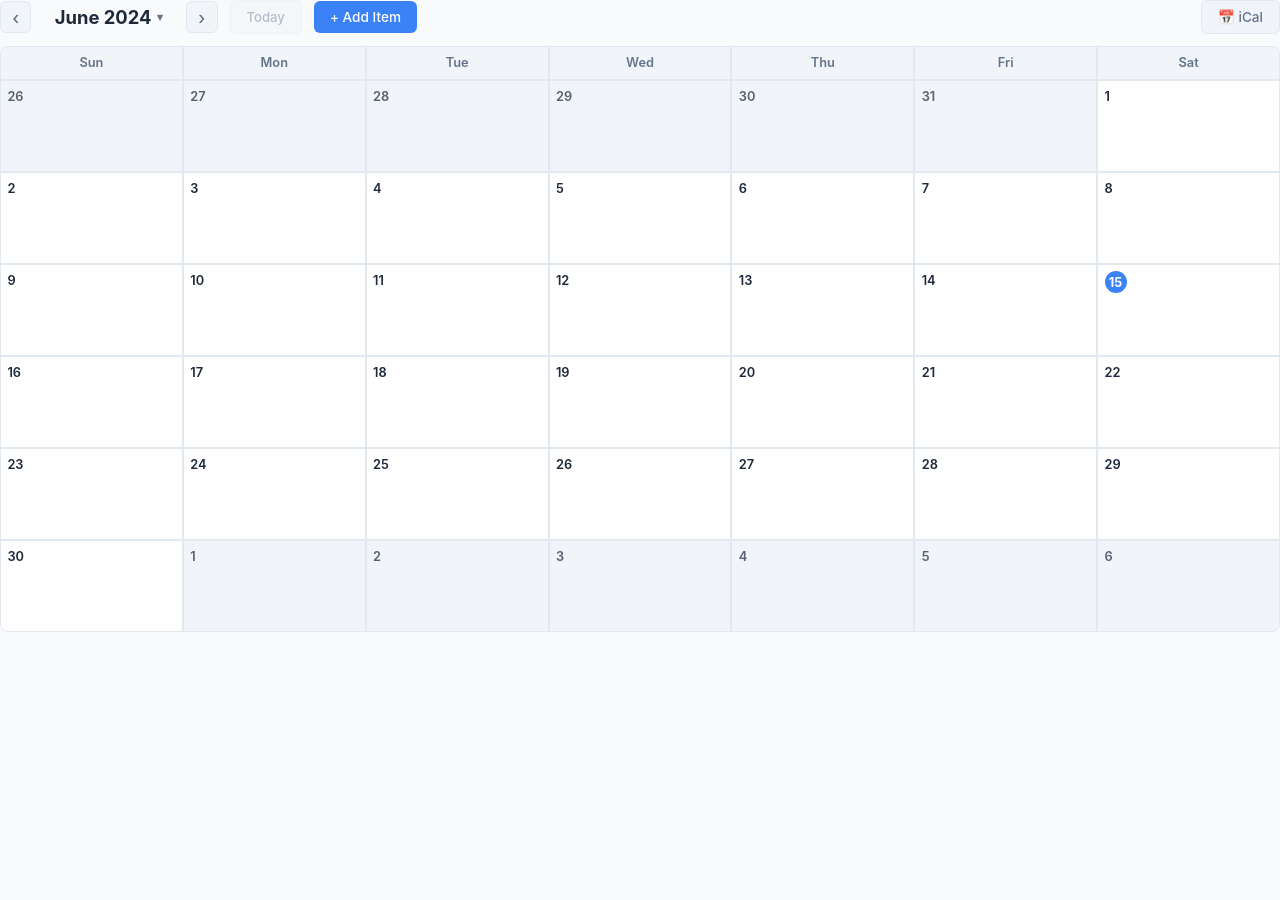
Scenario: CalendarView › opens iCal dialog when iCal button is clicked
What coordinates should you click on to do the following:
click the button with class "ical-btn"
I would click on:
 (1240, 17)
Its box is left=1201, top=0, right=1279, bottom=34.
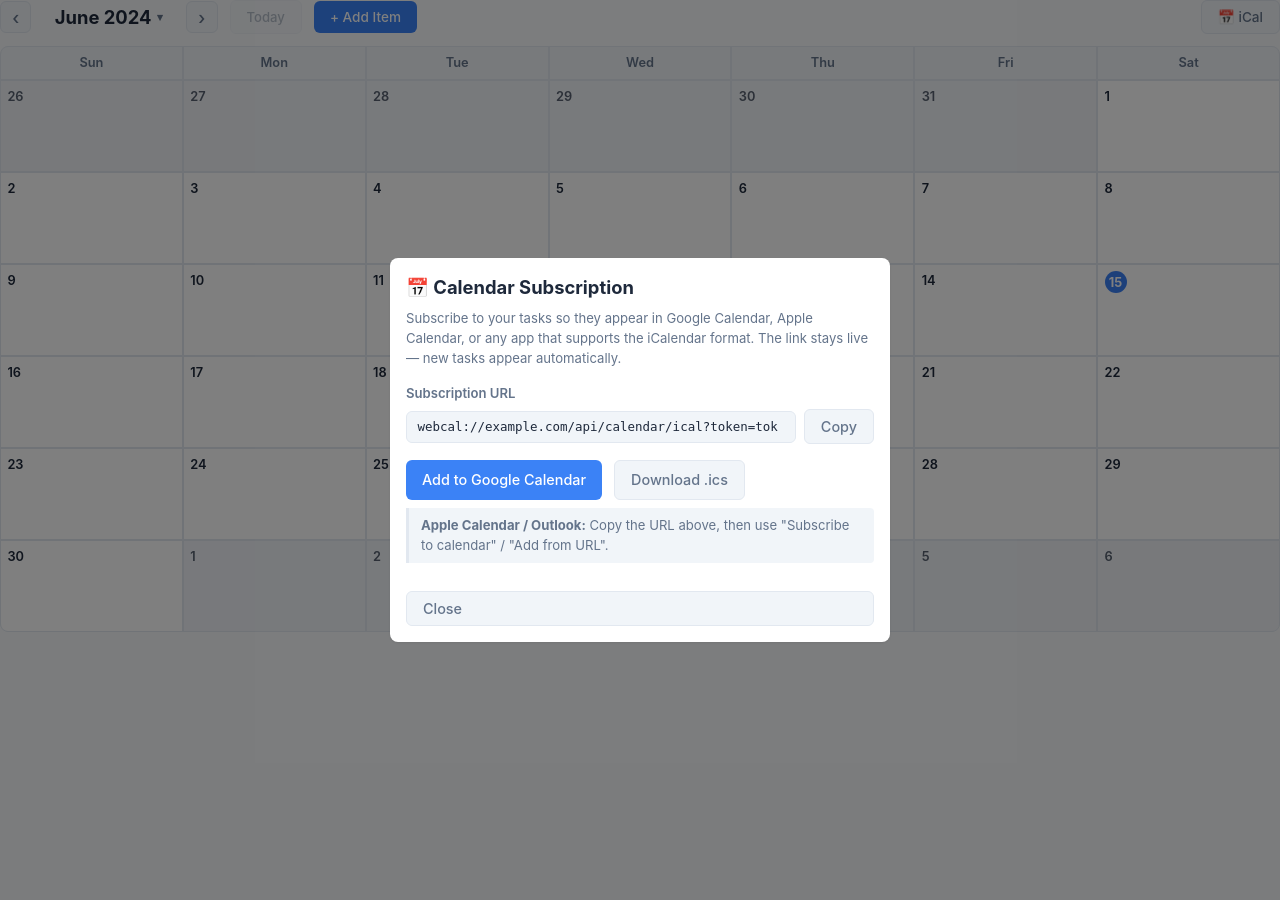
Check: the text "Calendar Subscription" is shown, box left=406, top=276, right=634, bottom=298
